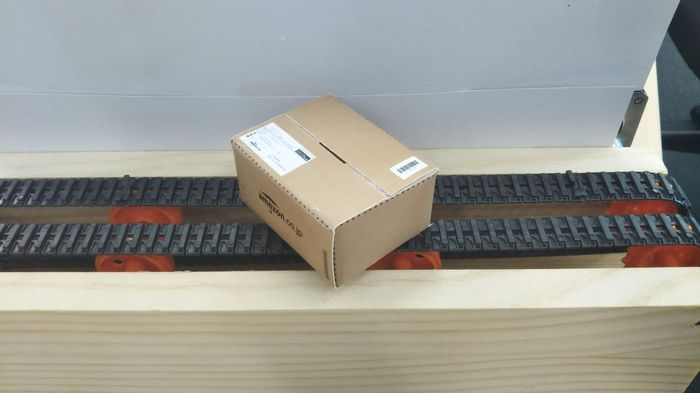box1: (228, 91, 440, 289)
